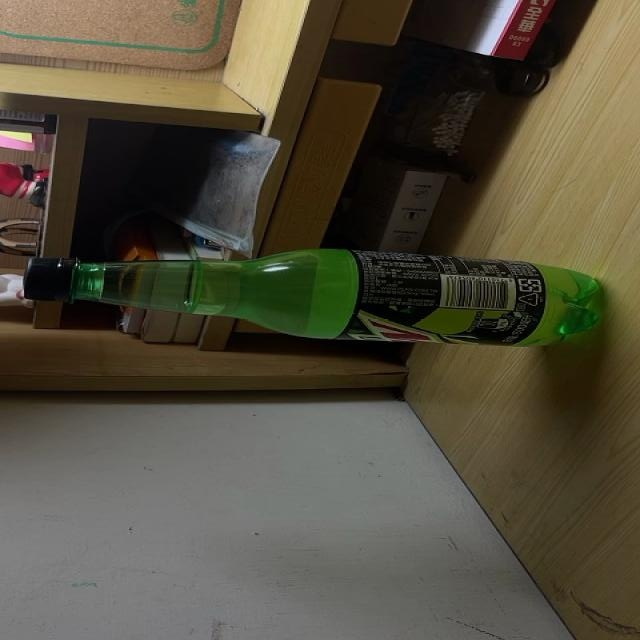Mountain-Dew: (22, 248, 608, 347)
